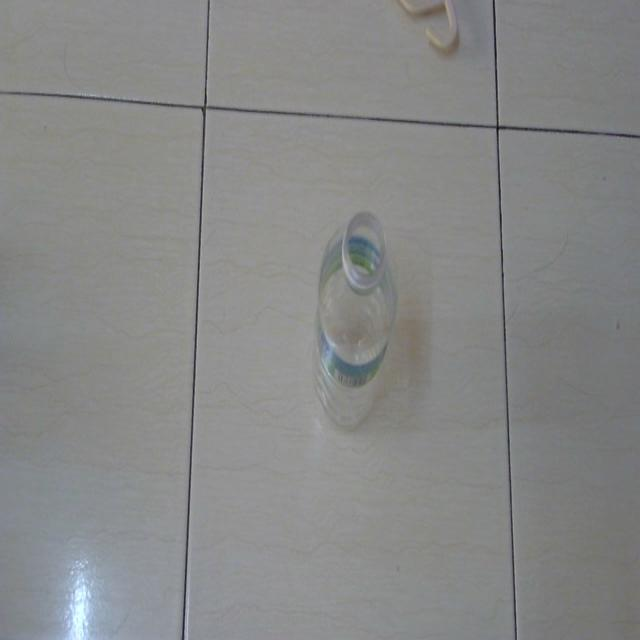plastic_standrotation: (311, 194, 404, 440)
